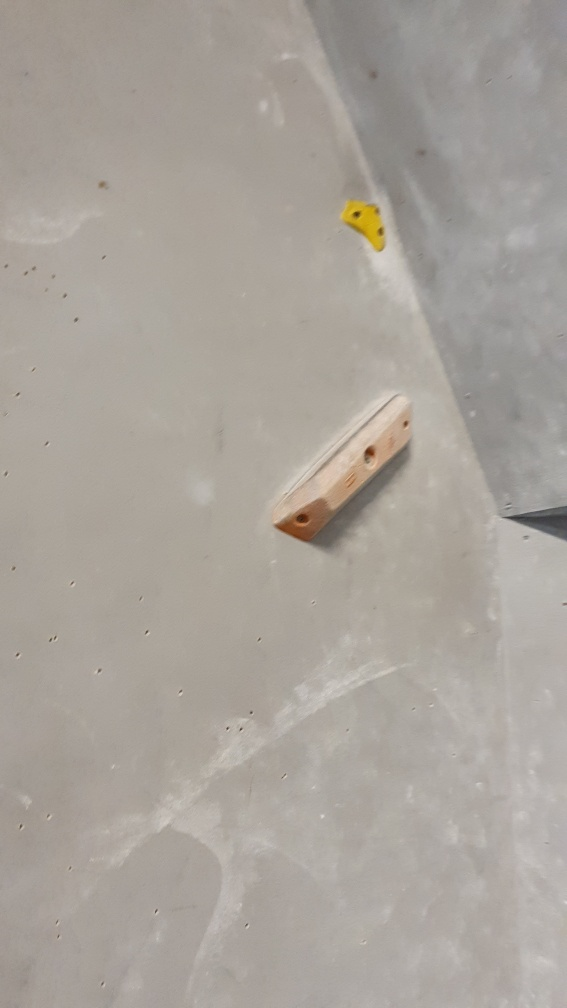Pinch: (267, 392, 421, 546)
